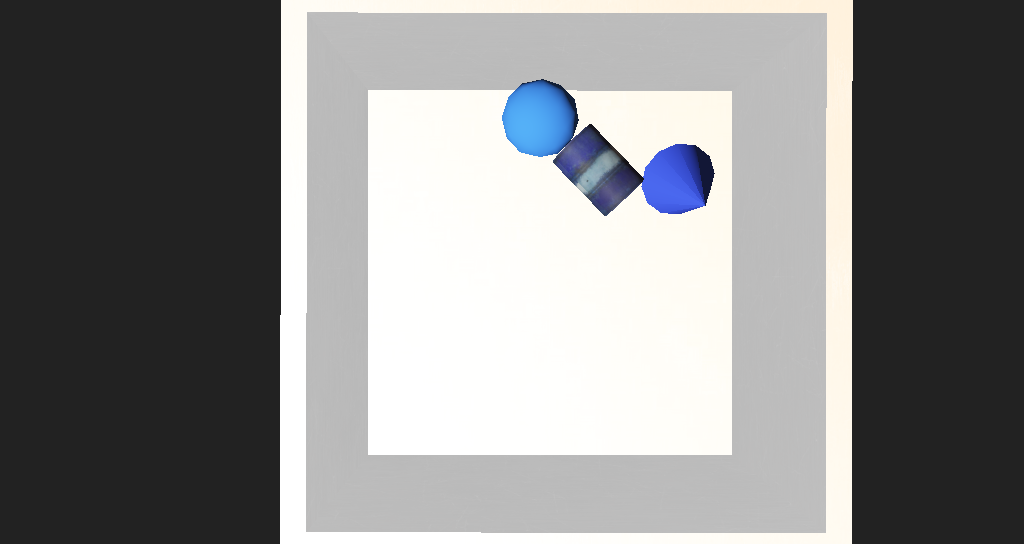cone: (505, 177, 586, 234)
cylinder: (583, 184, 670, 255)
sphere: (468, 160, 529, 203)
